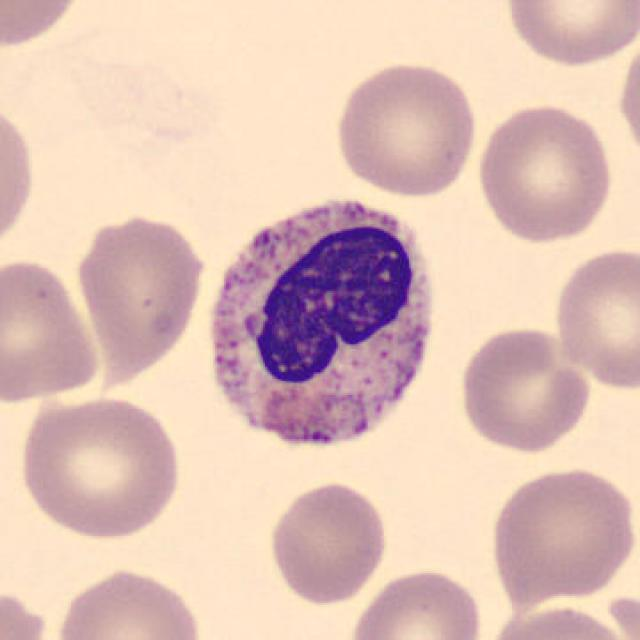Neutrophil: (192, 182, 452, 474)
RBC: (14, 390, 187, 541), (71, 210, 210, 374), (471, 99, 617, 245), (486, 462, 636, 603), (331, 58, 480, 199), (455, 323, 594, 455), (265, 478, 393, 606), (0, 254, 105, 407), (549, 243, 640, 393), (50, 564, 206, 640), (345, 564, 489, 640), (499, 0, 636, 69), (0, 91, 39, 262), (480, 601, 633, 640), (0, 0, 94, 53), (613, 28, 640, 169), (0, 585, 52, 640)
